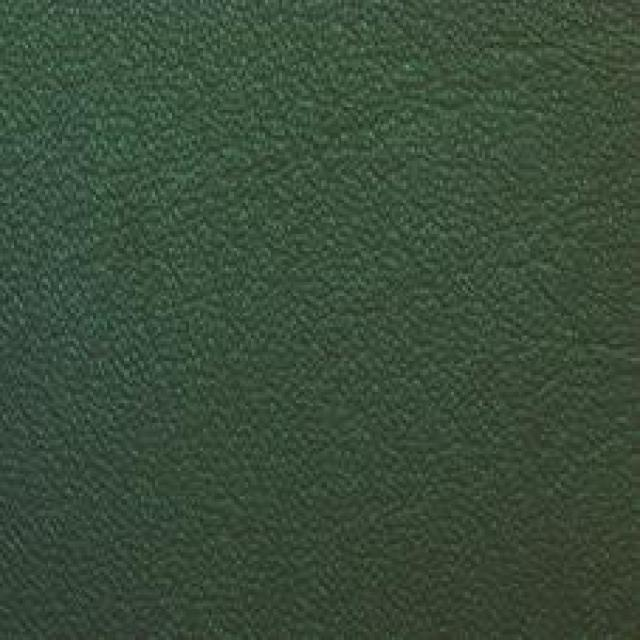Growth Marks: (218, 66, 545, 184)
